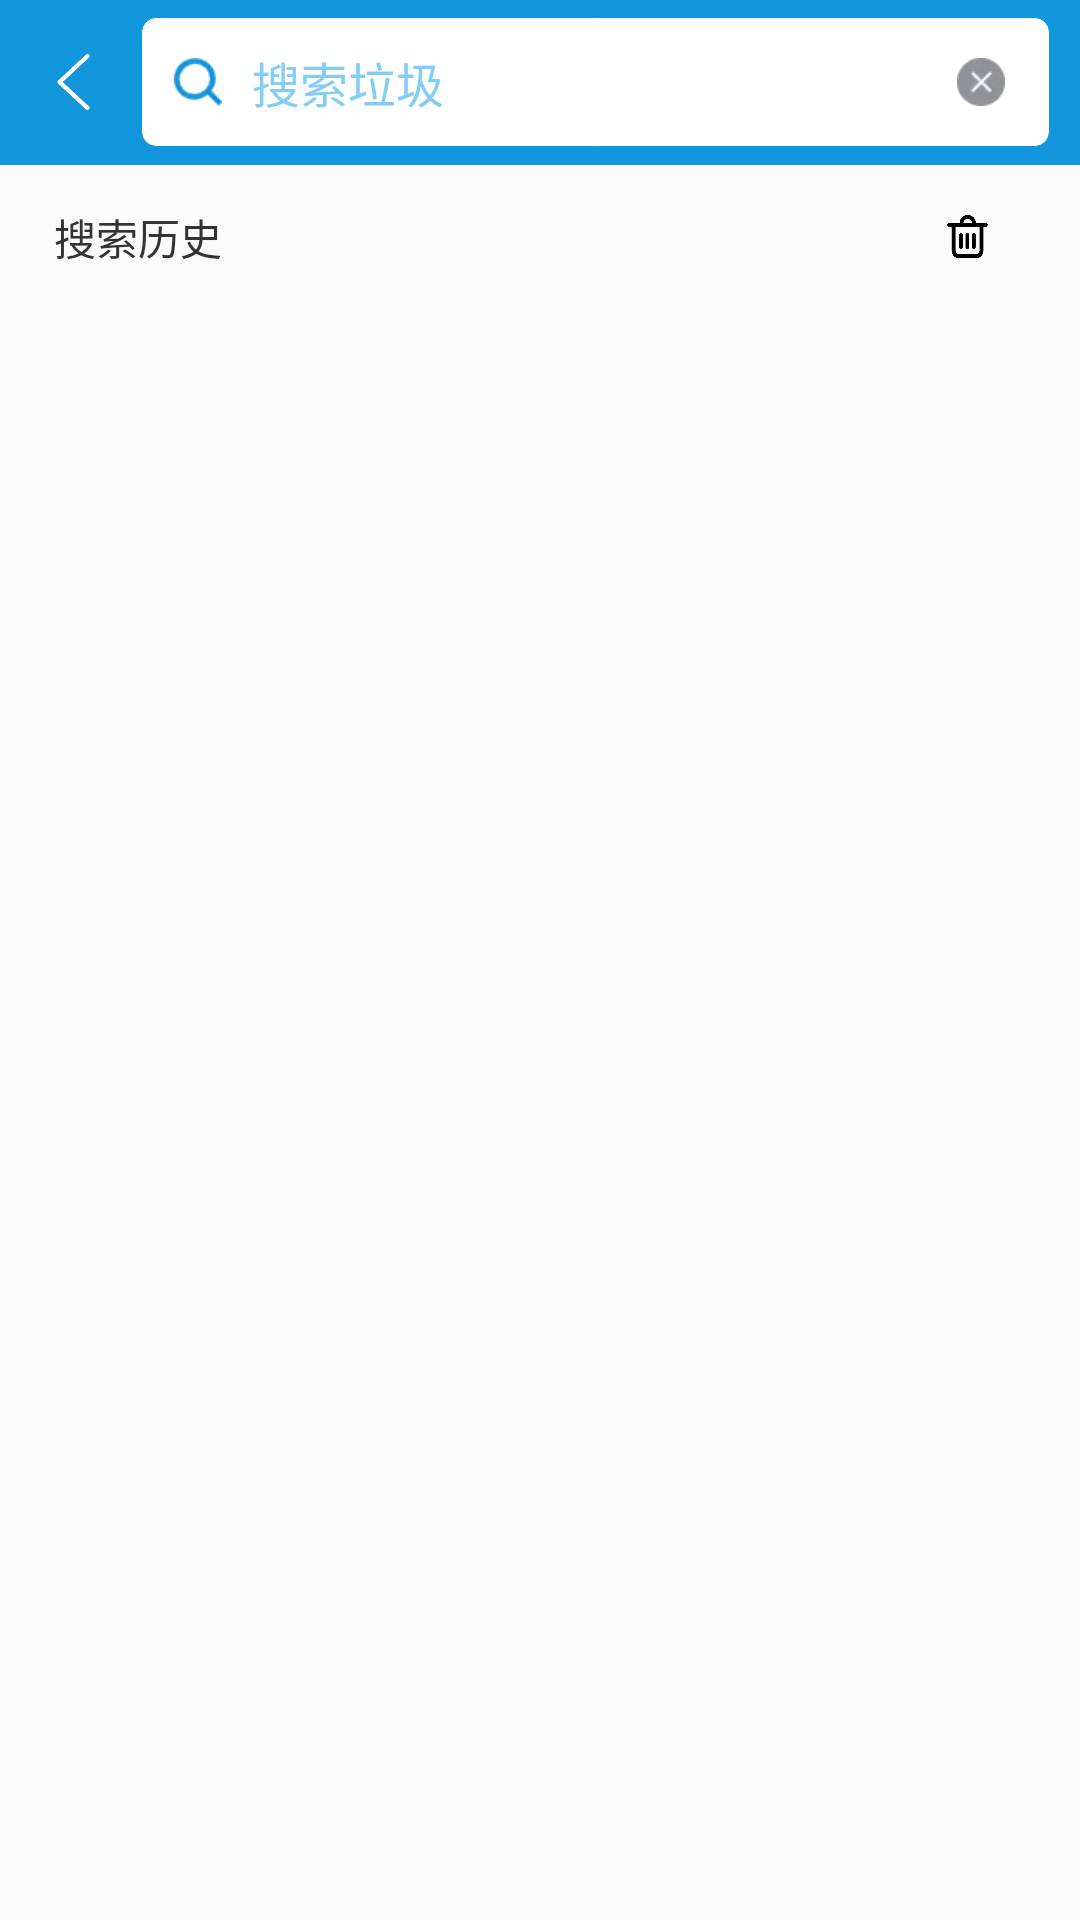

Icon bounding boxes for this 1080w x 1920h phone screenshot, format Rect(x1, y1, x2, y2):
back: Rect(57, 54, 90, 110)
delete: Rect(947, 215, 988, 258)
guanbi: Rect(957, 58, 1005, 106)
